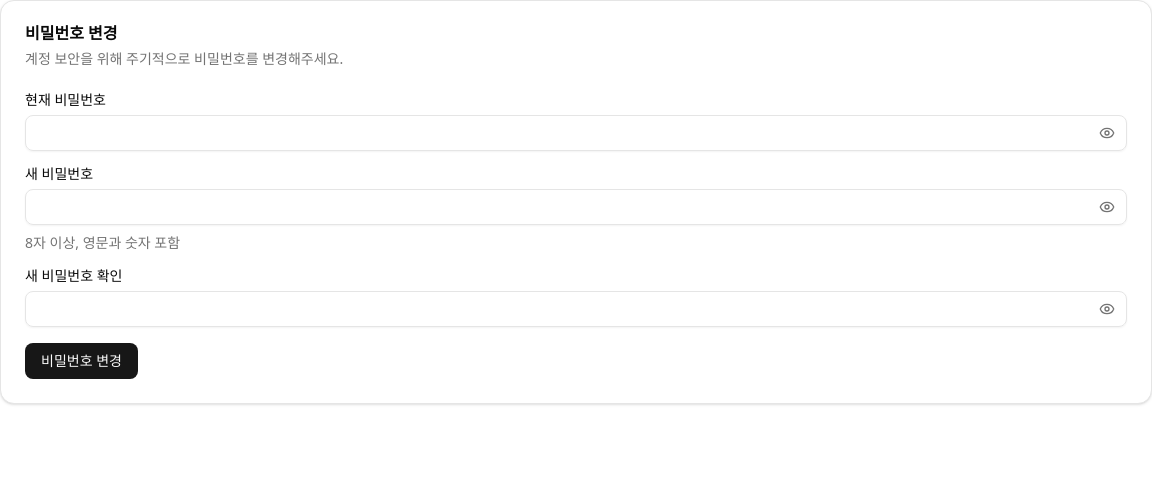
Scenario: PasswordChangeSection › 유효성 검증 (클라이언트) › 새 비밀번호가 8자 미만이면 에러가 표시된다
The image size is (1152, 478).
Type "current123" into the password field labelled "현재 비밀번호" at x=576, y=133, box top-left (25, 115), bottom-right (1127, 151)
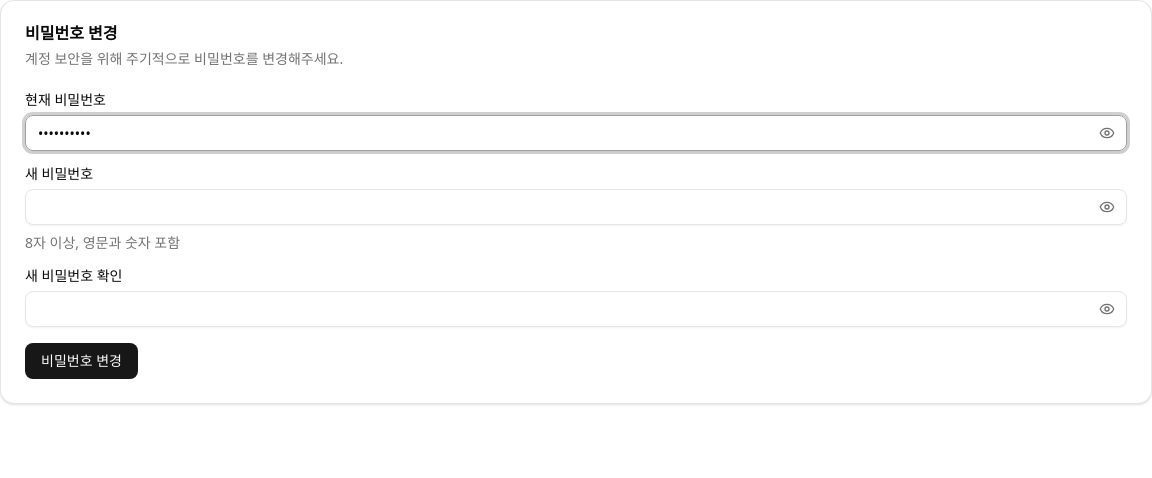
Type "abc1" into the password field labelled "새 비밀번호" at x=576, y=207, box top-left (25, 189), bottom-right (1127, 225)
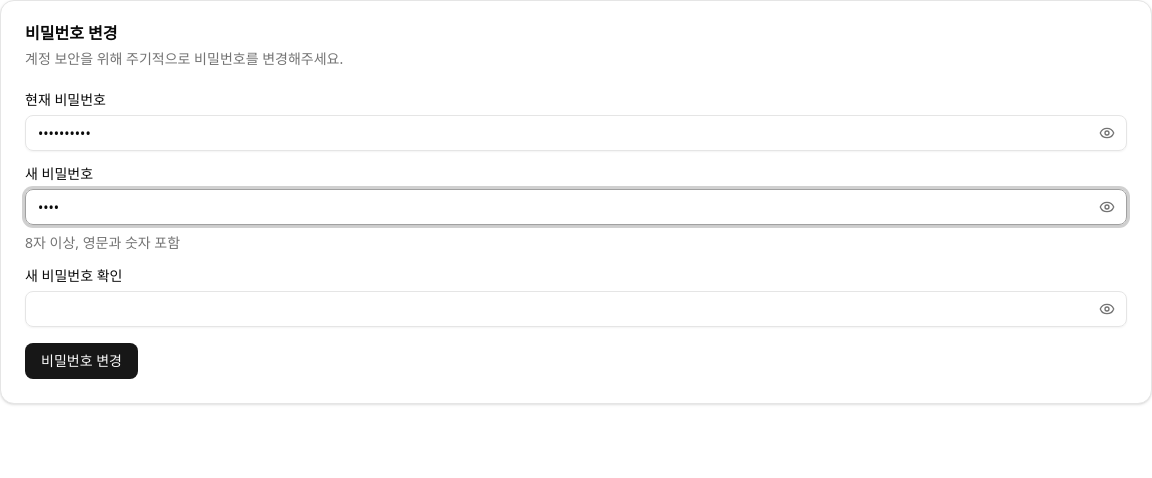
Click the button "비밀번호 변경" at x=81, y=361, box top-left (25, 343), bottom-right (138, 379)
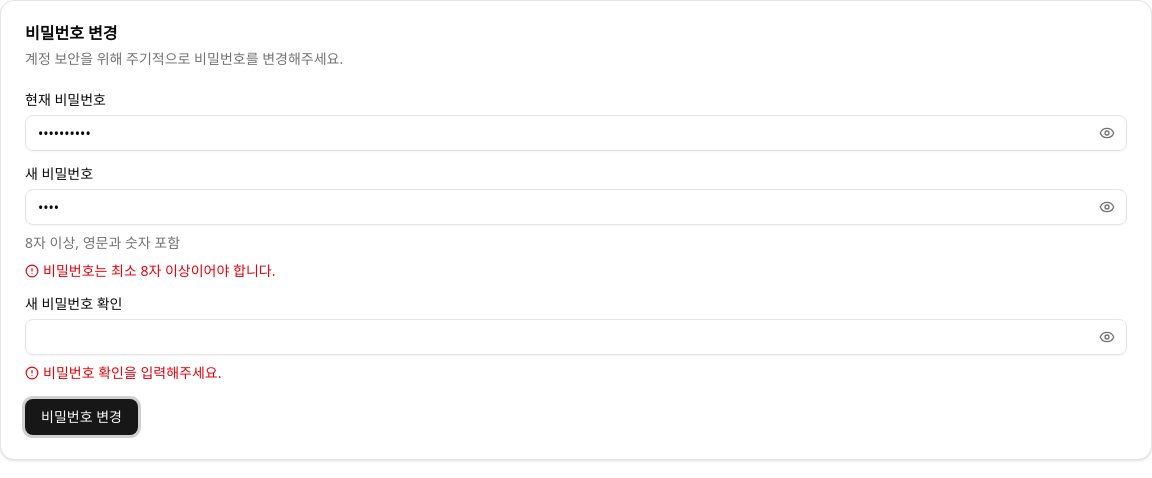
Check: the text "비밀번호는 최소 8자 이상이어야 합니다." is shown, box top-left (25, 261), bottom-right (275, 280)
